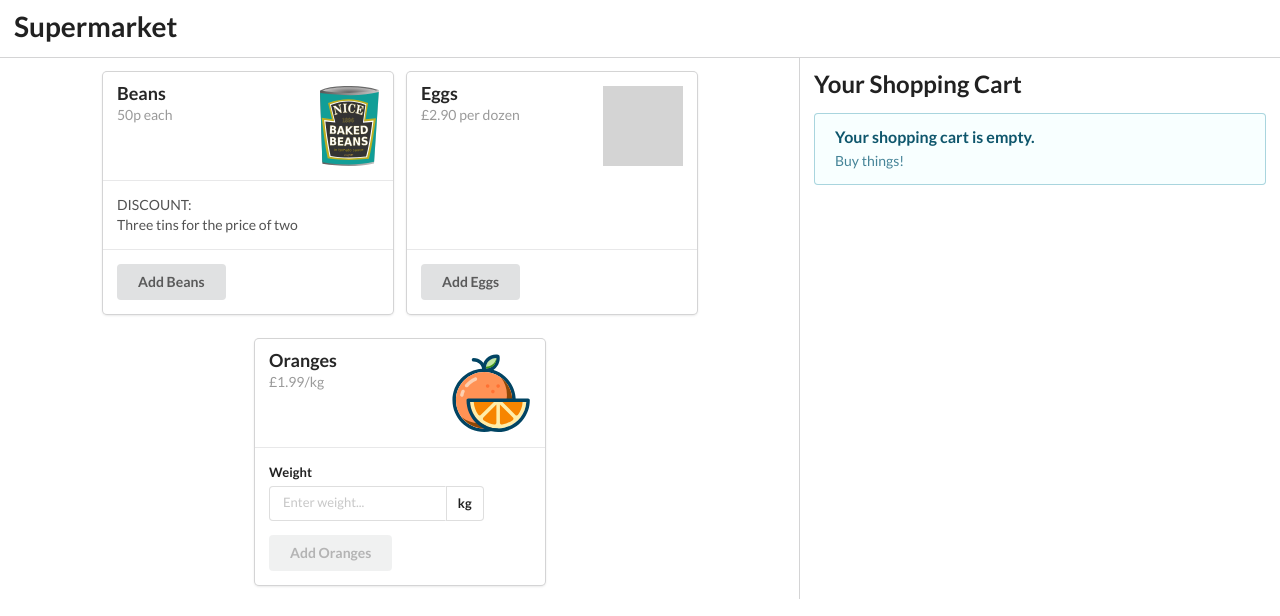
Test case: adds single items to the cart
The image size is (1280, 616).
Expected: the text "Total to Pay" is not shown
Step 1. Click the button "Add Beans" → (171, 282), box x1=117 y1=264 x2=226 y2=300
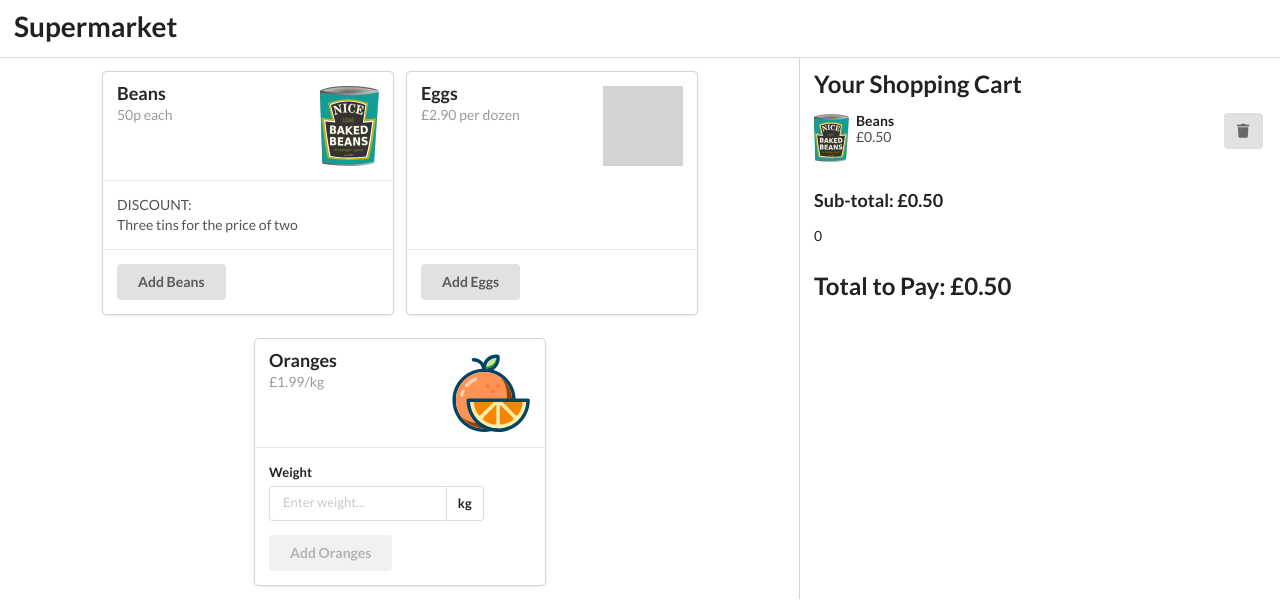
Result: the heading "Total to Pay: £0.50" is shown at x1=814 y1=271 x2=1011 y2=300
Step 2. Click the button "Add Eggs" → (471, 282), box x1=421 y1=264 x2=520 y2=300
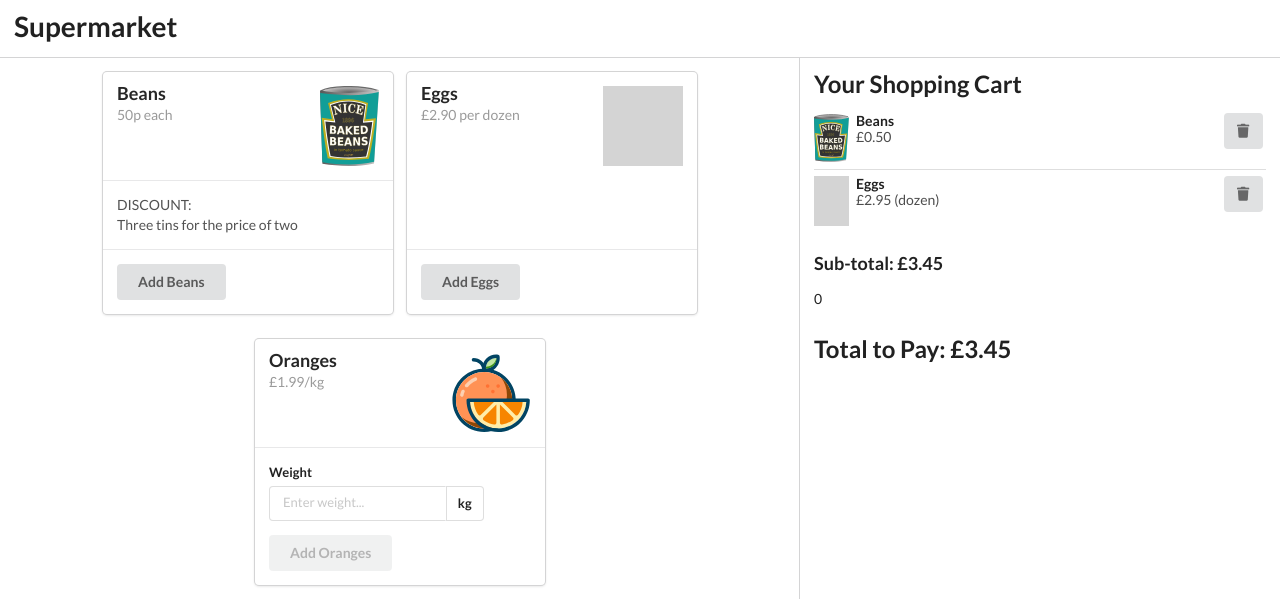
Result: the heading "Total to Pay: £3.45" is shown at x1=814 y1=334 x2=1011 y2=363
